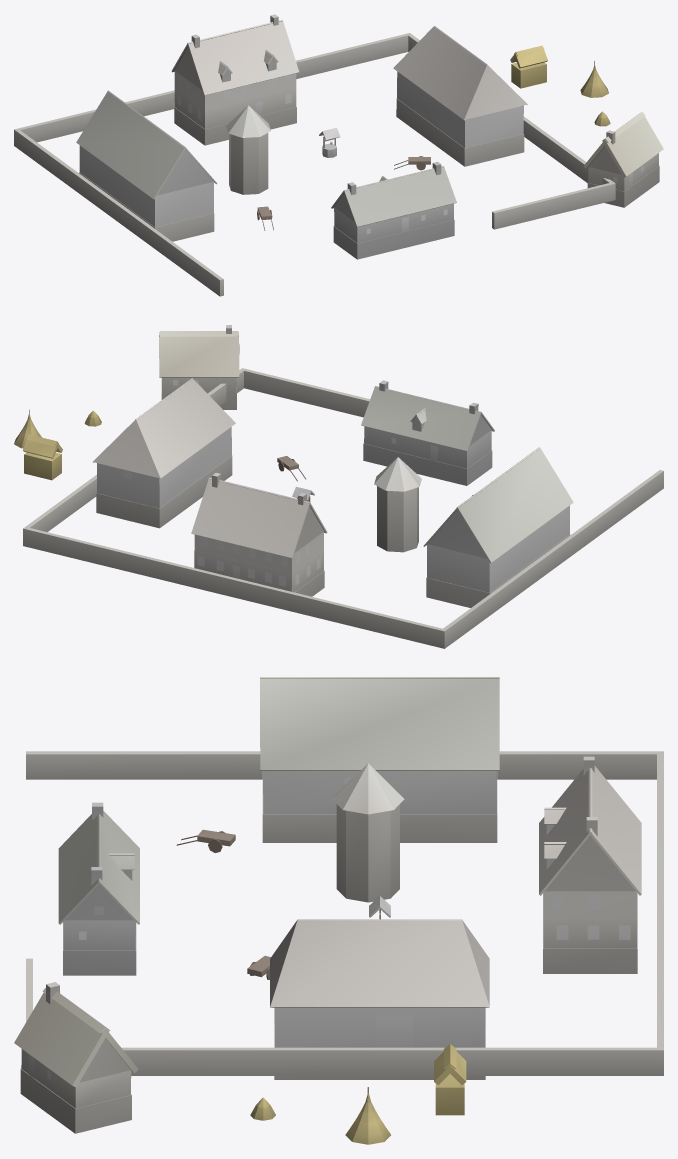
Rendered from farm_3.glb.
The picture shows the model from 3 angles, top to bottom: view 1: azimuth 30°, elevation 25°; view 2: azimuth 150°, elevation 25°; view 3: azimuth 270°, elevation 25°; orthographic projection. The views are drawn at different scales.
Parts seen in each view (by area): view 1: farm_3; view 2: farm_3; view 3: farm_3.
Boxes of the visible parts, left/top/right/bottom form: farm_3: left=14, top=14, right=663, bottom=296; farm_3: left=14, top=325, right=663, bottom=648; farm_3: left=14, top=677, right=663, bottom=1144.
Bounding box in the file's own units: 76.28 × 14.18 × 55.63.
